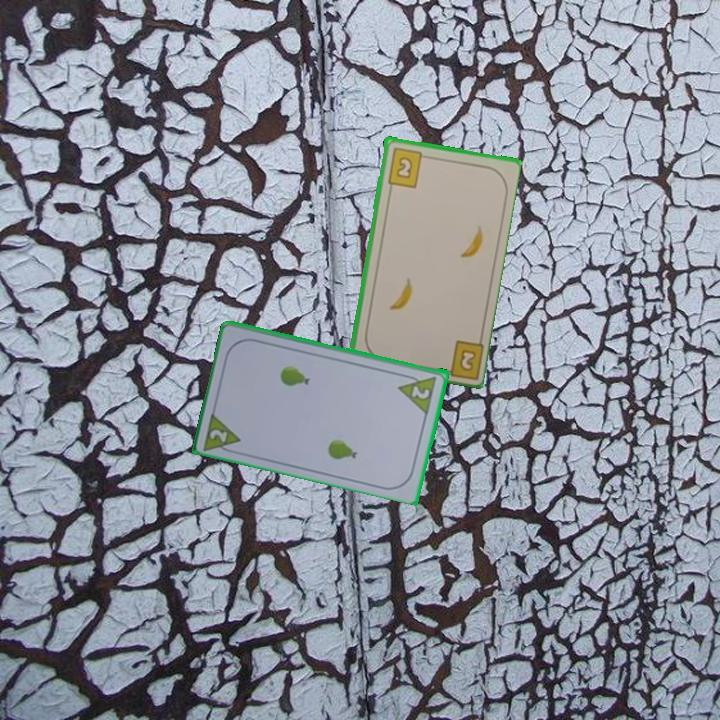2b: (435, 336, 485, 380), (384, 144, 431, 190)
2p: (408, 381, 433, 402), (206, 425, 231, 445)
